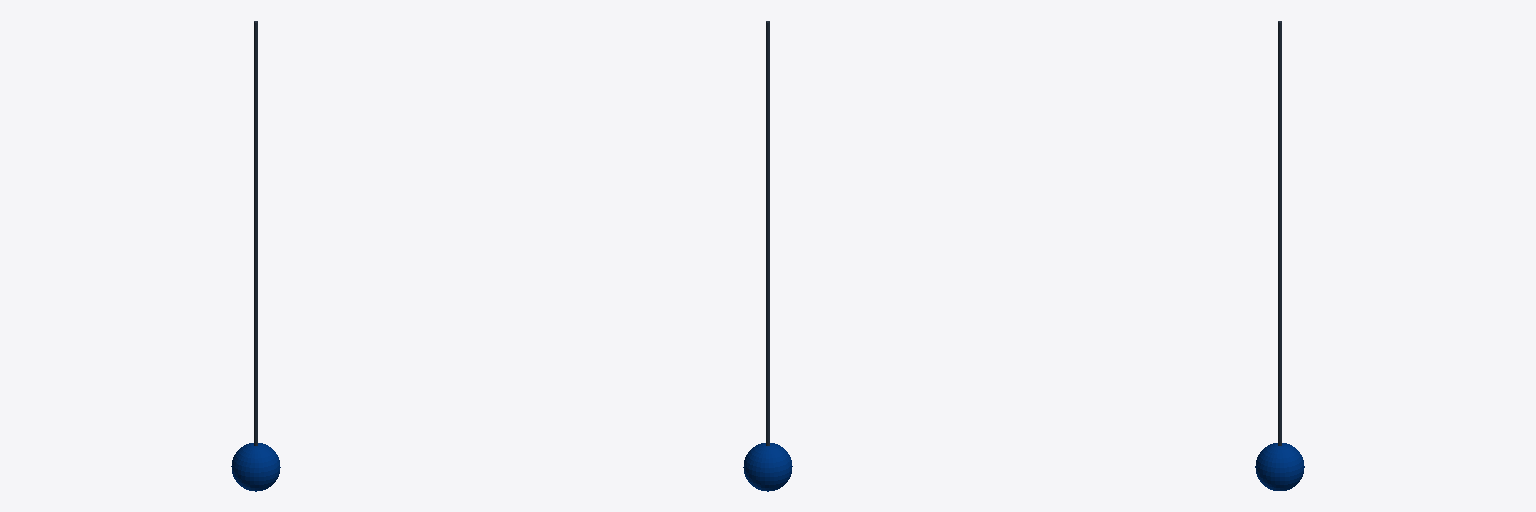
URDF robot description (p01_pendulum):
<?xml version='1.0' encoding='utf-8'?>
<robot name="p01_pendulum">
  <link name="base">
    <inertial>
      <mass value="0.1" />
      <inertia ixx="0.001" iyy="0.001" izz="0.001" ixy="0" ixz="0" iyz="0" />
    </inertial>
  </link>
  <link name="bob">
    <inertial>
      <origin xyz="0 0 -0.5" />
      <mass value="0.1" />
      <inertia ixx="0.000025" iyy="0.000025" izz="0.000025" ixy="0" ixz="0" iyz="0" />
    </inertial>
    <visual>
      <origin xyz="0 0 -0.5" />
      <geometry>
        <sphere radius="0.025" />
      </geometry>
      <material name="blue">
        <color rgba="0.03 0.26 0.55 1" />
      </material>
    </visual>
    <visual name="display_rod">
      <origin xyz="0 0 -0.25" />
      <geometry>
        <cylinder radius="0.0025" length="0.5" />
      </geometry>
      <material name="rod_metal">
        <color rgba="0.19 0.24 0.30 1" />
      </material>
    </visual>
  </link>
  <joint name="pivot" type="continuous">
    <parent link="base" />
    <child link="bob" />
    <axis xyz="0 1 0" />
    <dynamics damping="0" friction="0" />
  </joint>
</robot>

--- Facts derived from the render (not from the file) ---
3 views of the same robot in one strip: view 1: azimuth 30°, elevation 25°; view 2: azimuth 150°, elevation 25°; view 3: azimuth 270°, elevation 25° (orthographic).
Robot: p01_pendulum — 2 links, 1 joints (1 continuous); root link base; default pose: all joints at 0.
Links seen in each view (by area): view 1: bob; view 2: bob; view 3: bob.
Boxes of the visible links, x1,y1,x2,y2 form: bob: (231, 21, 280, 491); bob: (743, 21, 792, 491); bob: (1255, 21, 1304, 490).
Size in the robot's own frame: 0.05 by 0.05 by 0.525 metres.
Geometry: primitives only (box / cylinder / sphere), no mesh files.
